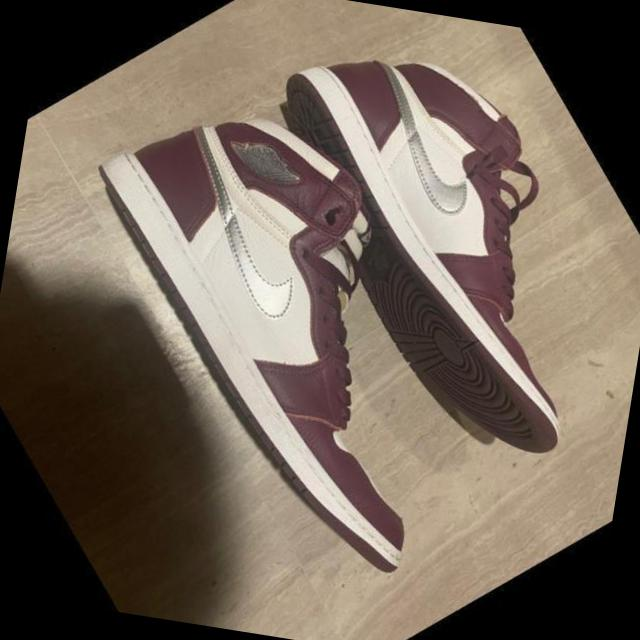nike_original_jordan: (23, 23, 597, 632), (194, 0, 640, 519)
